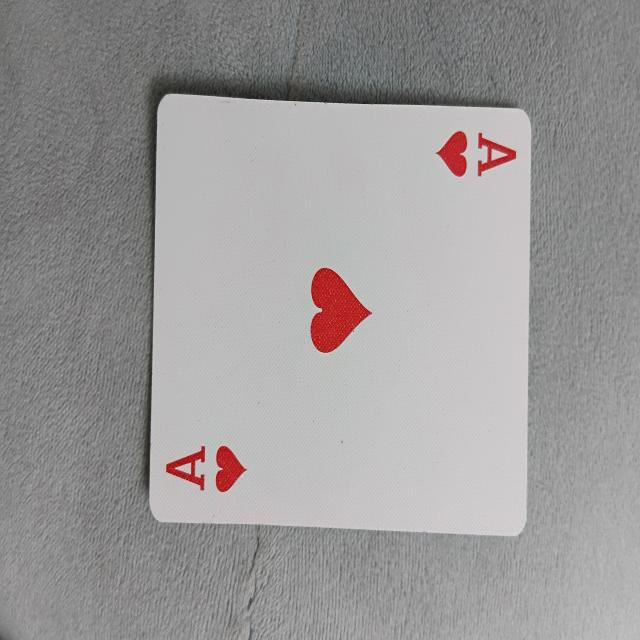AH: (157, 94, 529, 532)
